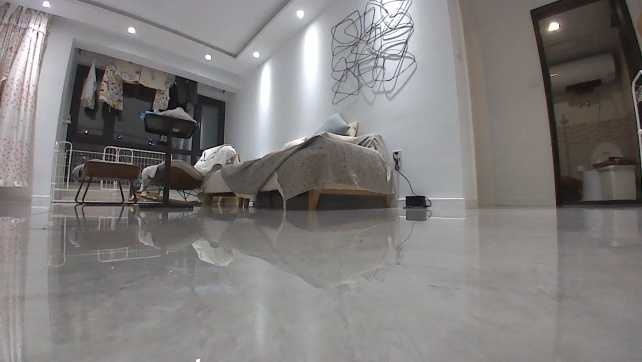charger: (401, 194, 429, 210)
metal_chair_foot: (65, 194, 130, 207), (135, 198, 195, 210)
sofa: (200, 111, 395, 211)
toilet: (581, 139, 620, 203)
trash_can: (597, 161, 639, 200)
wire: (390, 150, 423, 194)
